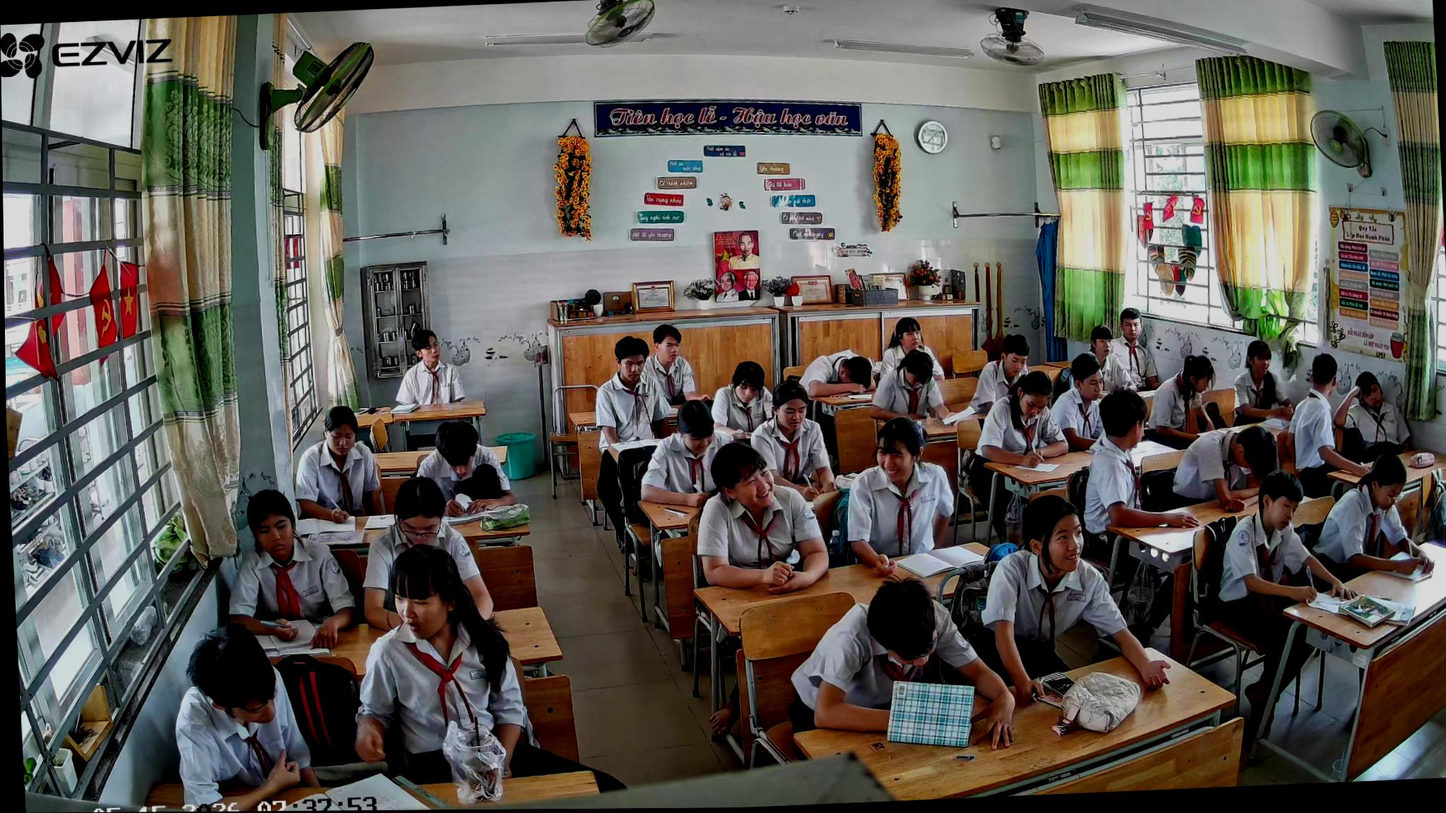person: (344, 537, 627, 801), (783, 572, 1021, 760), (1200, 465, 1366, 728), (977, 490, 1174, 703), (1076, 386, 1204, 638), (168, 619, 326, 812), (218, 484, 362, 657), (689, 436, 834, 600), (356, 475, 494, 633), (589, 335, 685, 547), (839, 414, 960, 578), (1305, 450, 1431, 588), (969, 370, 1074, 514), (1284, 350, 1375, 499), (744, 378, 839, 515), (289, 402, 387, 529), (634, 398, 731, 510), (1168, 423, 1284, 516), (414, 419, 517, 519), (1329, 369, 1419, 463), (1145, 354, 1223, 450), (1045, 351, 1115, 453), (963, 334, 1035, 428), (390, 327, 467, 413), (867, 348, 952, 425), (642, 322, 710, 411), (708, 360, 779, 444), (1228, 339, 1296, 425), (874, 315, 946, 386), (795, 347, 875, 410), (1109, 306, 1161, 392), (1086, 323, 1143, 396)
